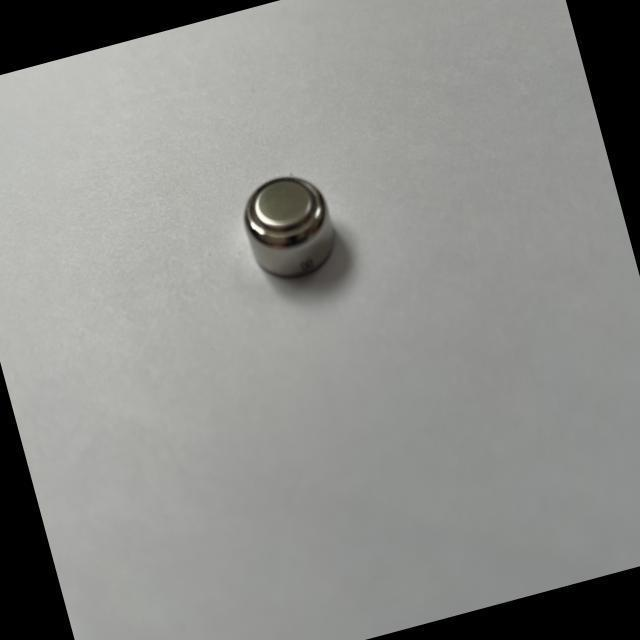COIN: (232, 165, 346, 289)
